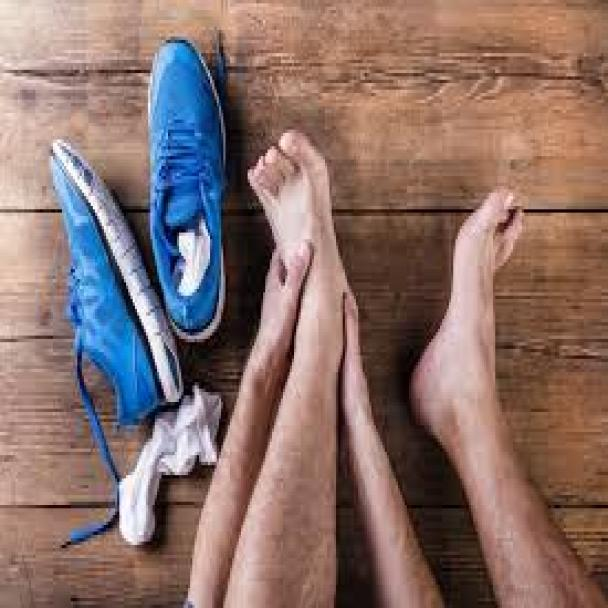Sepatu: (45, 142, 182, 423), (148, 34, 228, 340)
